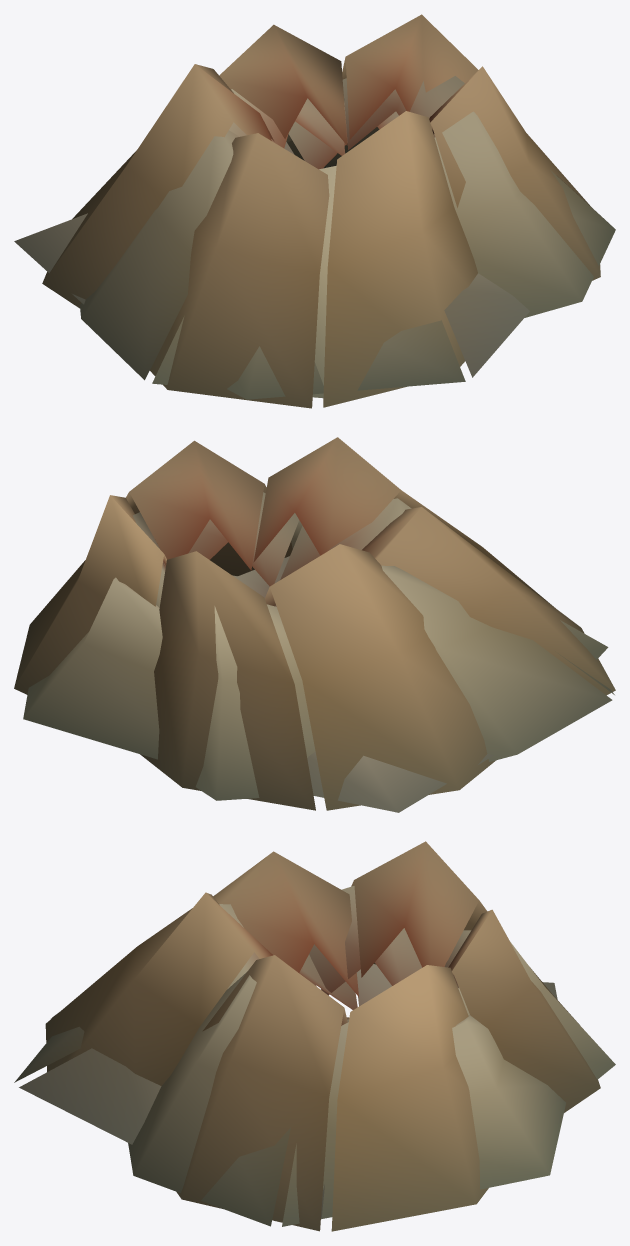
The model's file is specimens-middle.glb.
3 renders of one model, top to bottom at view 1: azimuth 30°, elevation 25°; view 2: azimuth 150°, elevation 25°; view 3: azimuth 270°, elevation 25°, orthographic. The views are drawn at different scales.
Parts seen in each view (by area): view 1: SeaCup2, SeaCup1, SeaCup3; view 2: SeaCup2, SeaCup1, SeaCup3; view 3: SeaCup2, SeaCup1, SeaCup3.
Boxes of the visible parts, x1,y1,x2,y2 form: SeaCup2: (42,14,600,408); SeaCup1: (80,76,615,398); SeaCup3: (14,103,529,399); SeaCup2: (14,437,615,810); SeaCup1: (133,492,614,800); SeaCup3: (23,556,608,812); SeaCup2: (45,841,600,1231); SeaCup1: (128,886,615,1226); SeaCup3: (14,954,565,1217).
Size of the model in its own units: 1.89 by 0.7136 by 1.83.
